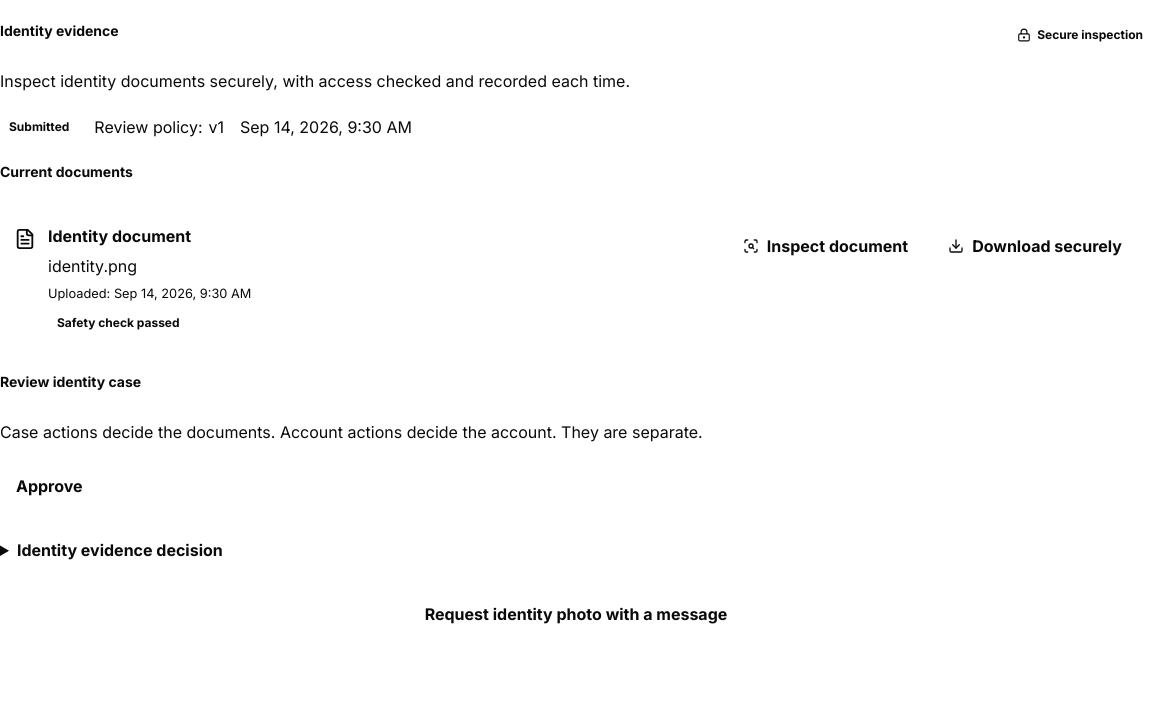
Scenario: restricted identity preview › explains en identity conflict EVIDENCE_PREFLIGHT_STALE while preserving the case note
This screenshot has width=1152, height=720.
Click the button with test id "review-case-approve". click: (49, 486)
box: [0,464,99,508]
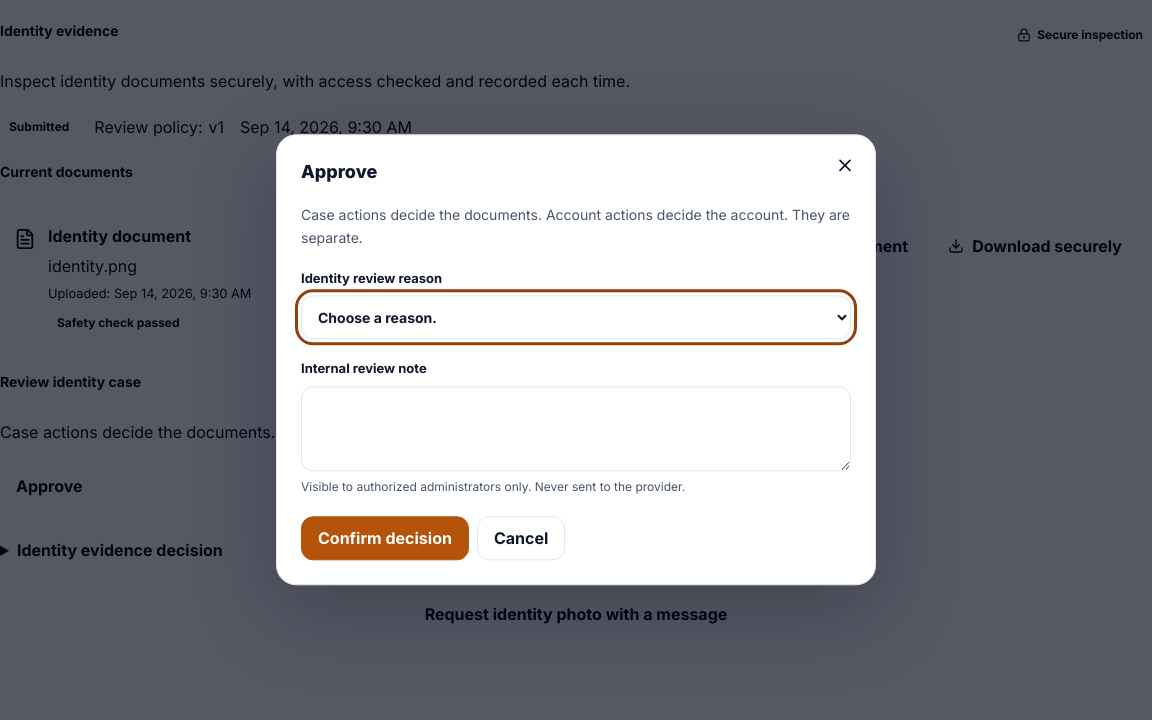
Select "Documents complete and legible" in the dropdown. click: (576, 318)
box: [301,296,851,340]
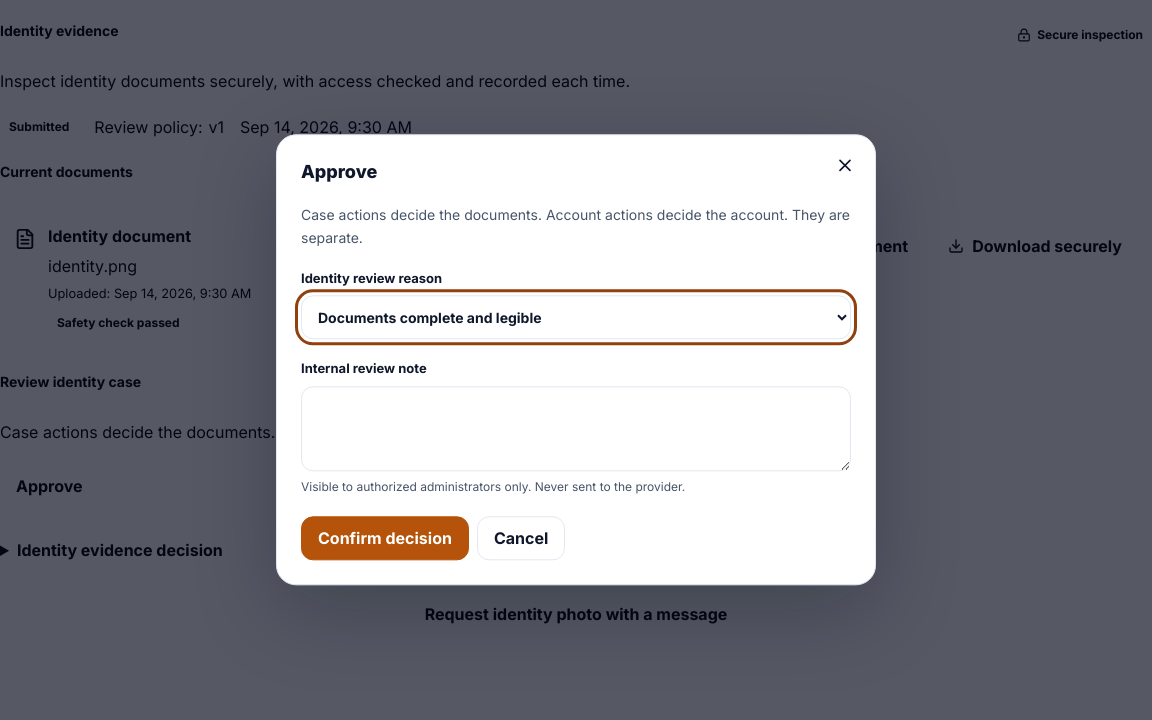
Type "Preserved case note" into the text box. click: (576, 429)
box: [301,386,851,471]
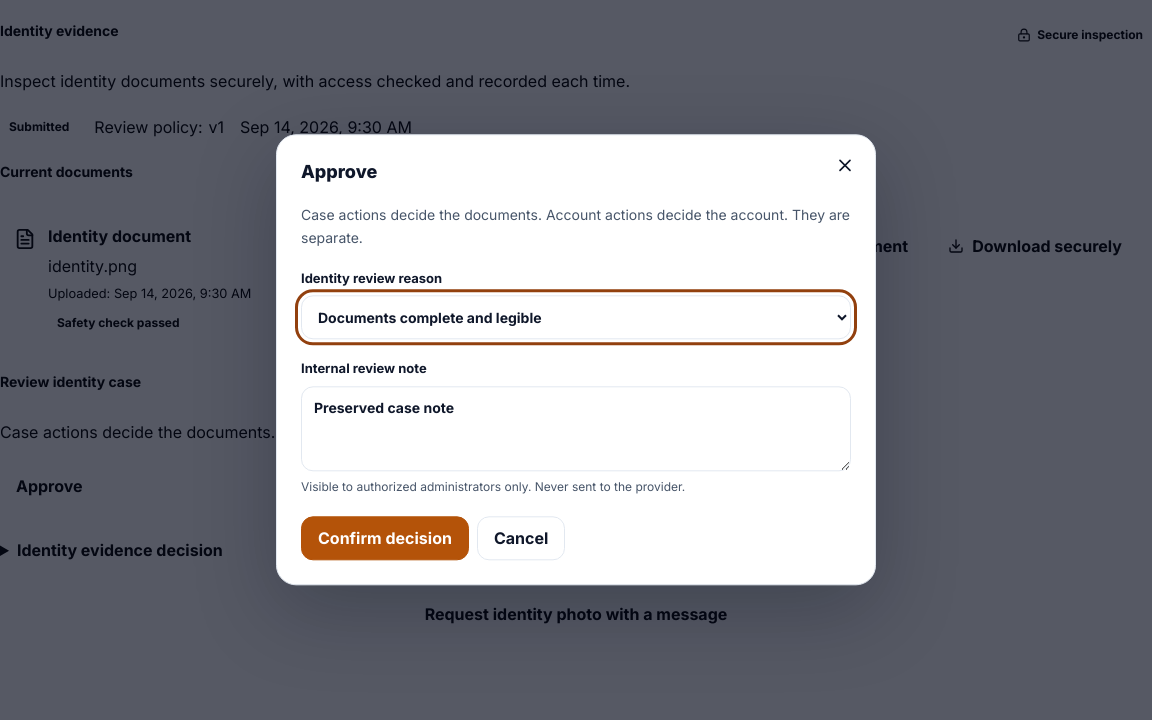
Click the button with test id "review-case-confirm". click: (385, 538)
box: [301,516,469,561]
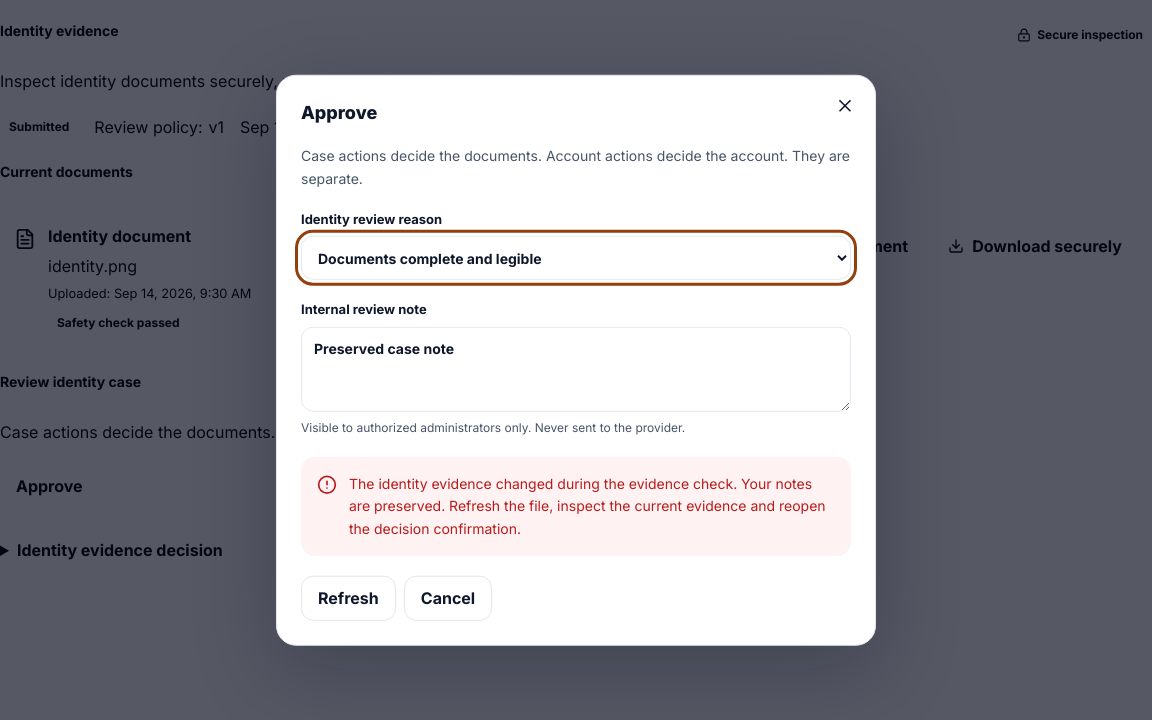
Expected: the message shows "The identity evidence changed during the evidence check", [349,475,826,536]
Expected: the button with test id "review-case-confirm" is gone
